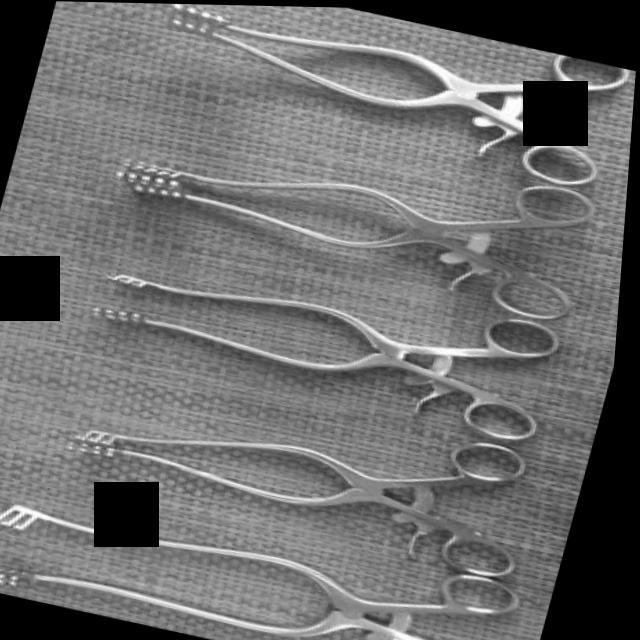Self Retractor: (100, 86, 628, 327), (38, 347, 554, 582), (63, 223, 586, 447), (127, 2, 636, 191), (0, 467, 542, 640)
